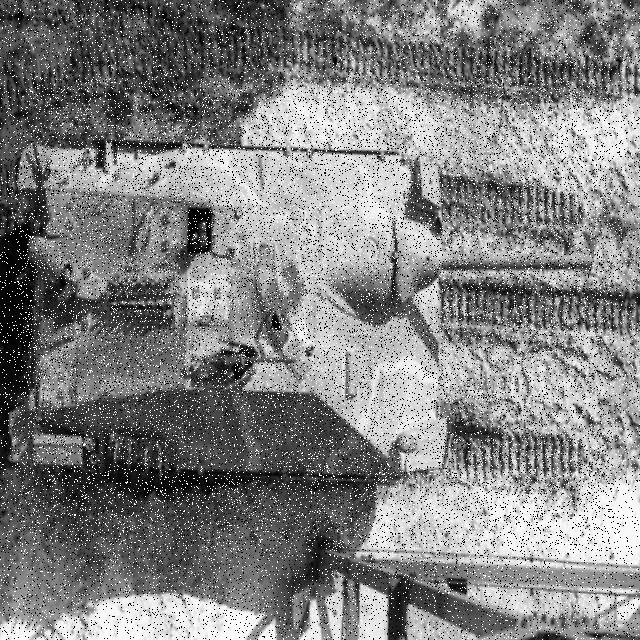MIL_MBT: (17, 77, 612, 545)
